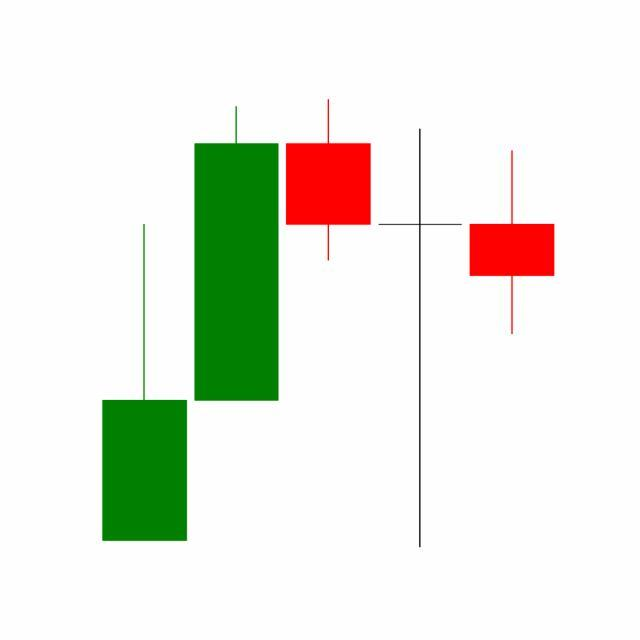Spinning Top: (374, 125, 468, 554)
